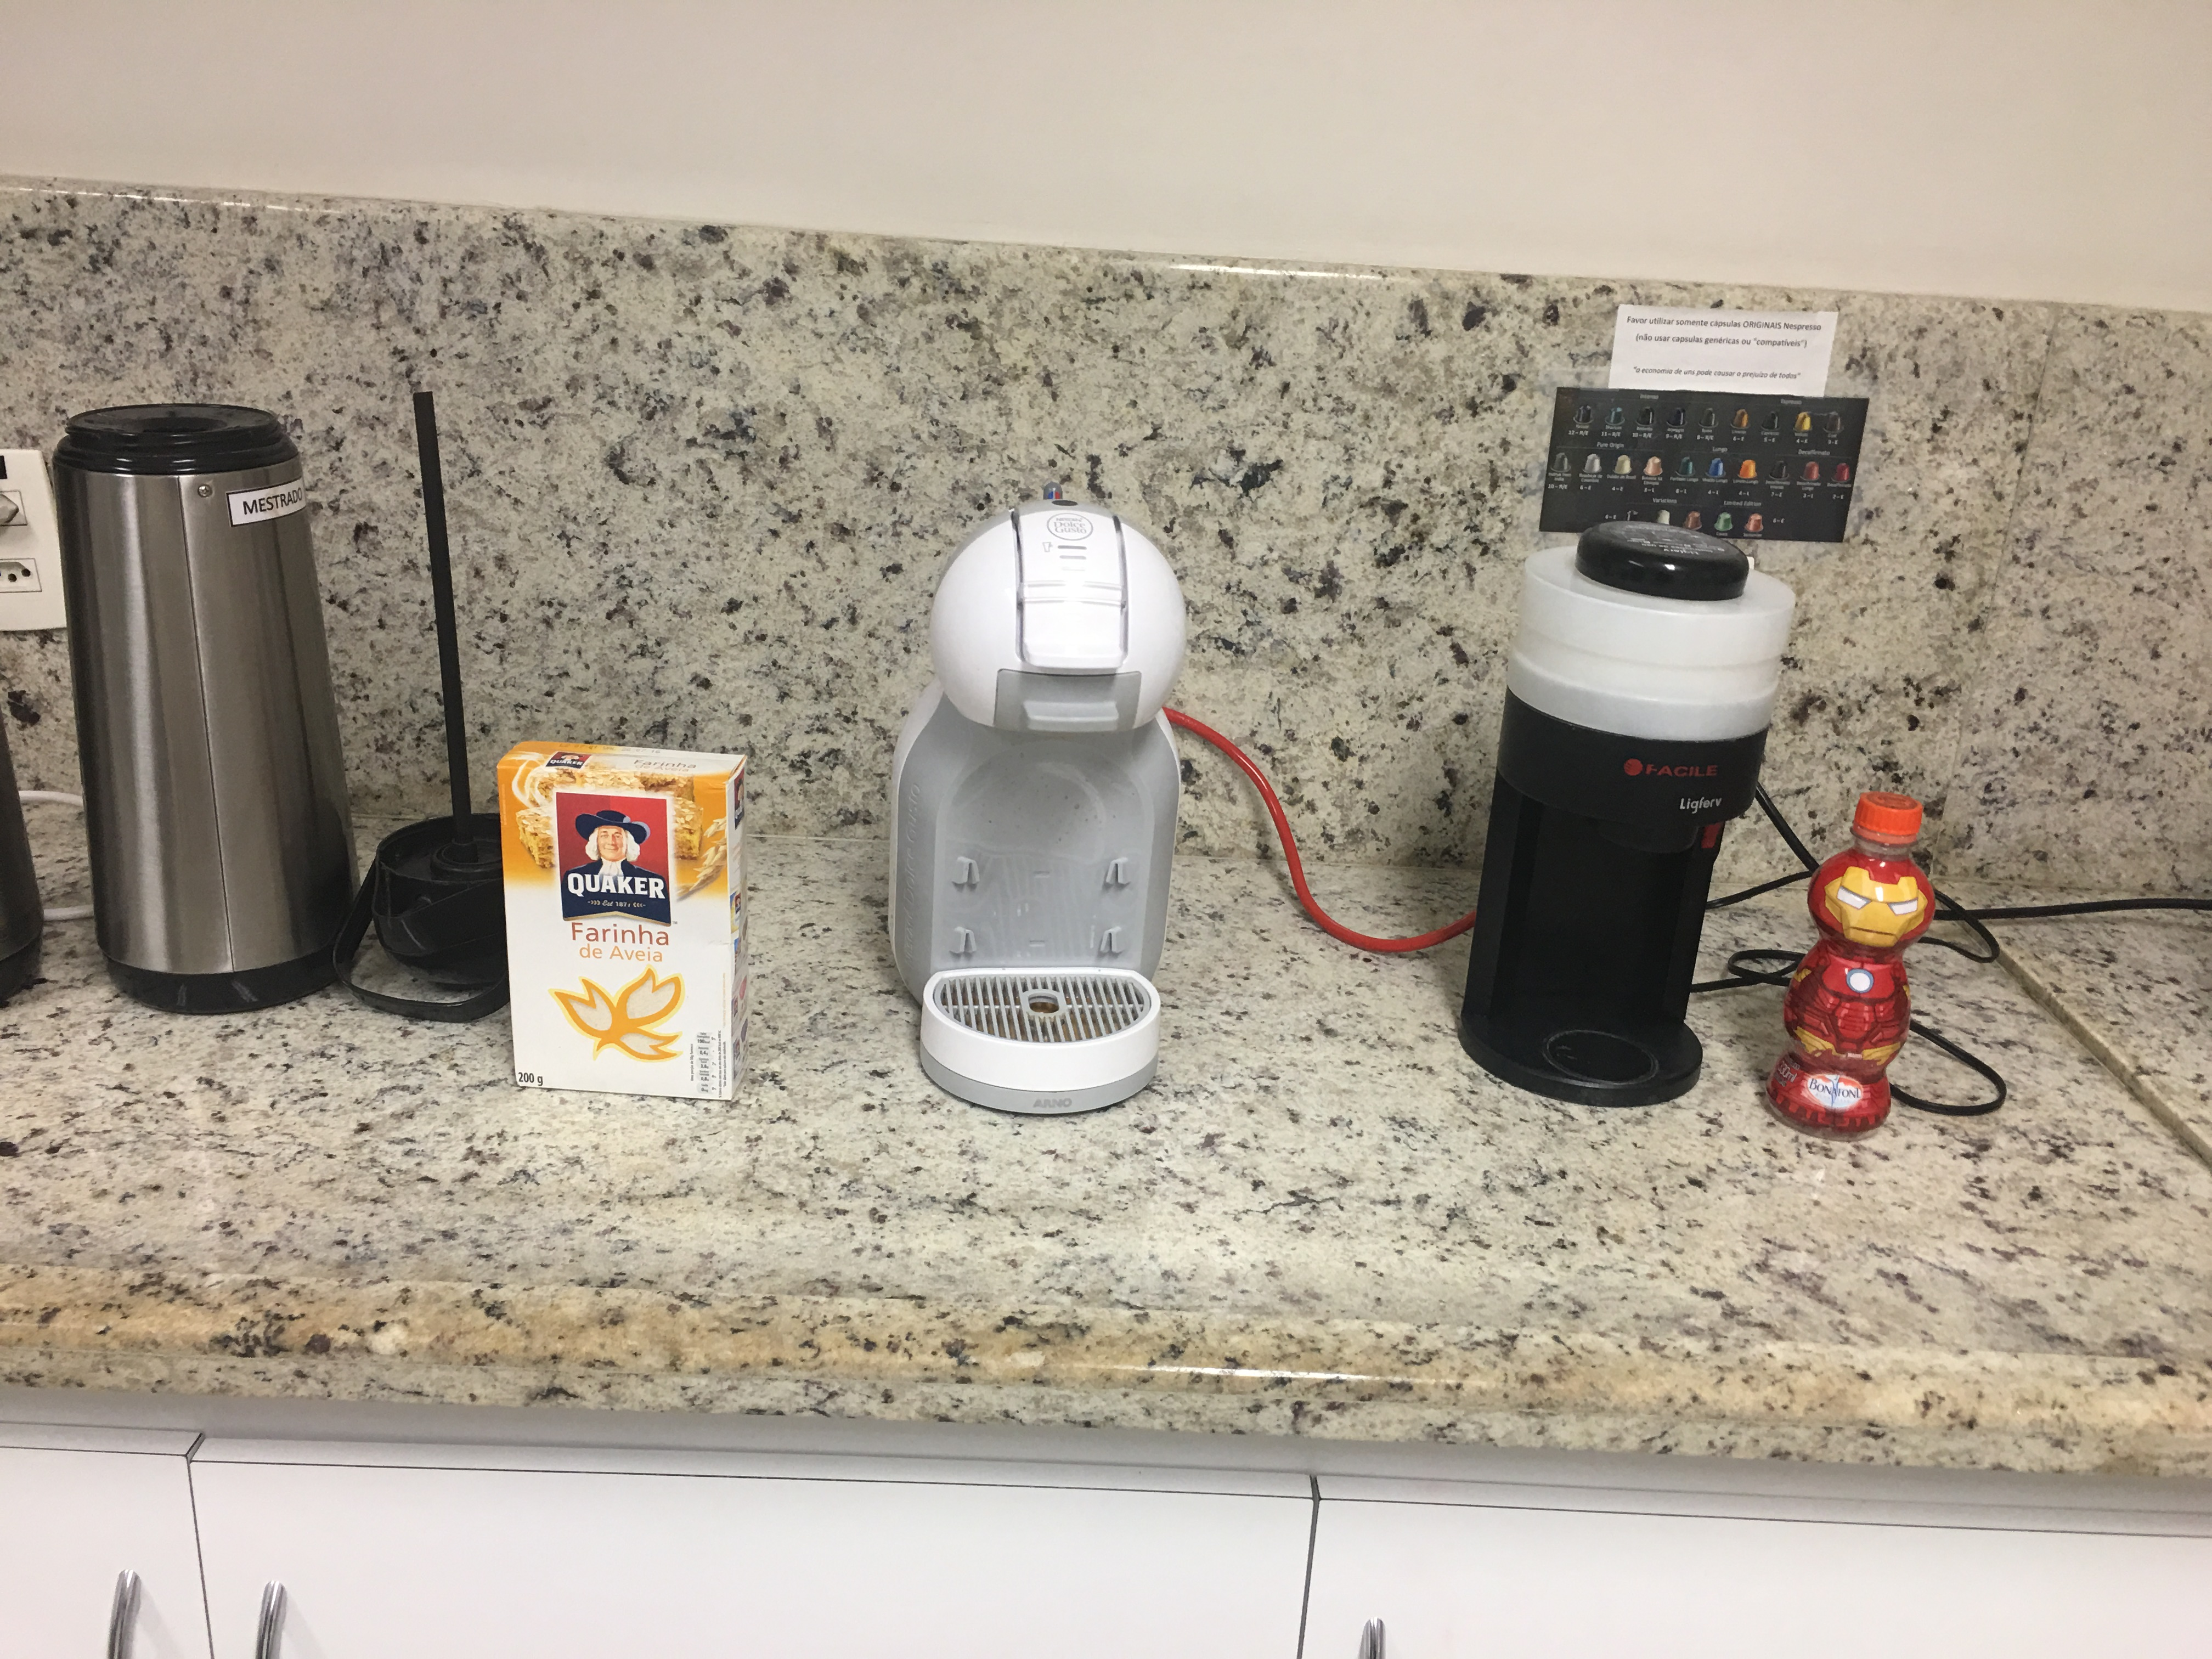cereal: (494, 739, 746, 1110)
iron_man: (1759, 784, 1946, 1139)
